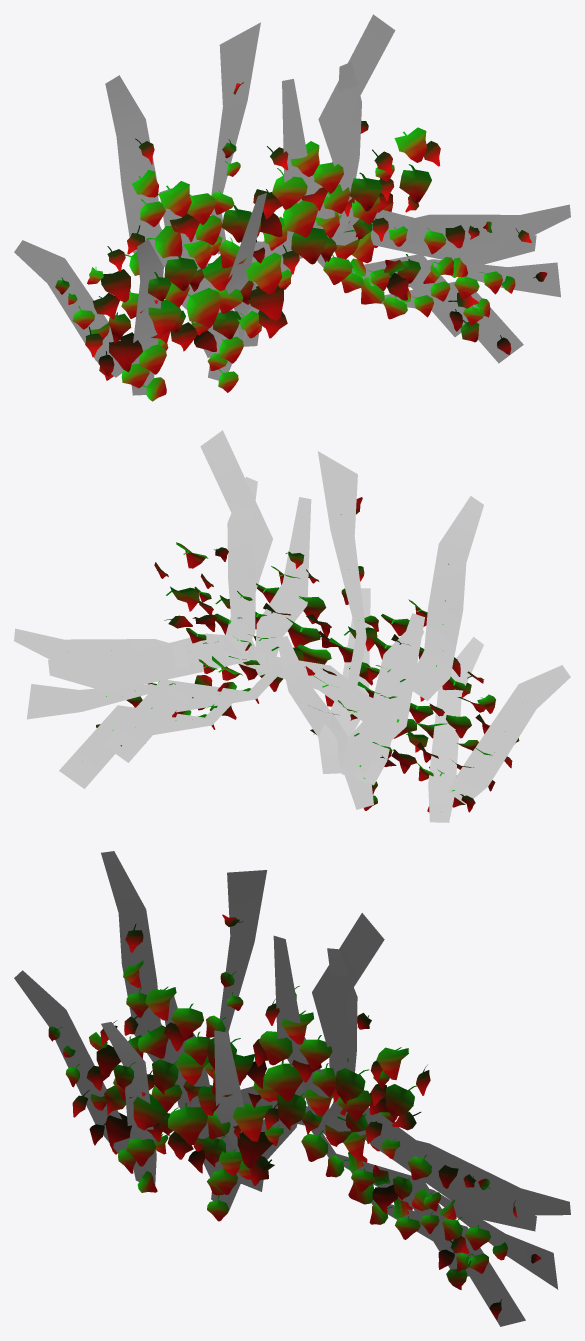
File: lierre_var_4.fbx
3 renders of one model, top to bottom at view 1: azimuth 30°, elevation 25°; view 2: azimuth 150°, elevation 25°; view 3: azimuth 330°, elevation 25°, orthographic.
Visible parts, largest first — view 1: _39a7_Var4_LOD0; view 2: _39a7_Var4_LOD0; view 3: _39a7_Var4_LOD0.
Boxes of the visible parts, left/top/right/bottom form: _39a7_Var4_LOD0: left=14, top=14, right=570, bottom=401; _39a7_Var4_LOD0: left=14, top=430, right=570, bottom=822; _39a7_Var4_LOD0: left=14, top=851, right=570, bottom=1326.
Bounding box in the file's own units: 97.06 × 66.16 × 9.19.
